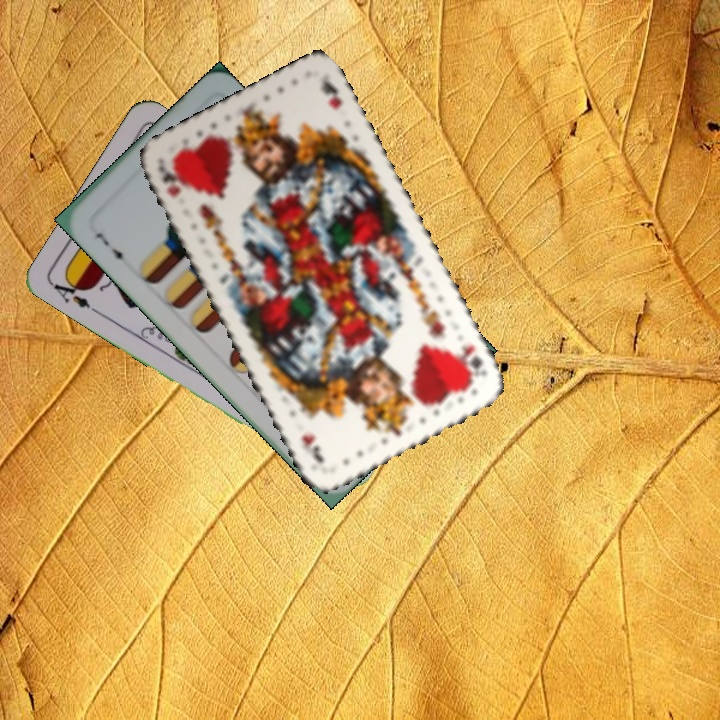E7: (91, 228, 128, 268)
EA: (47, 273, 101, 317)
HK: (454, 340, 490, 386), (154, 162, 183, 200)
